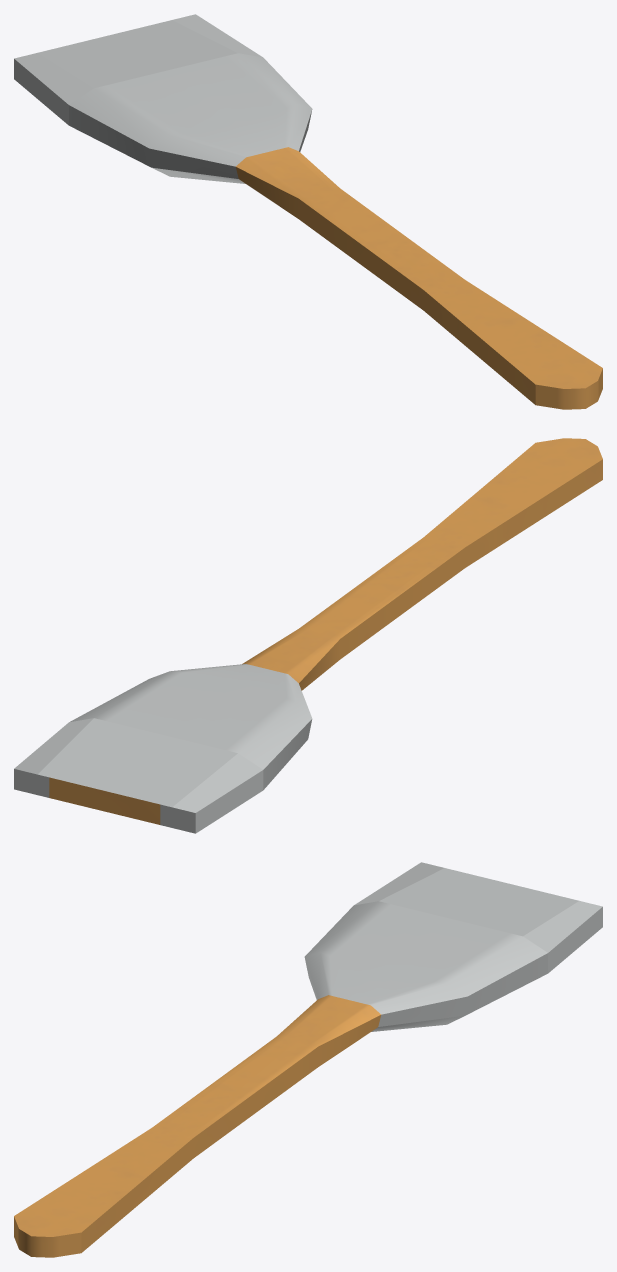
Rendered from Spatula.fbx.
3 renders of one model, top to bottom at view 1: azimuth 30°, elevation 25°; view 2: azimuth 150°, elevation 25°; view 3: azimuth 330°, elevation 25°, orthographic.
Parts seen in each view (by area): view 1: Spoon1; view 2: Spoon1; view 3: Spoon1.
Part boxes in pixels (bbox=[...]): Spoon1: bbox=[14, 14, 602, 409]; Spoon1: bbox=[14, 438, 602, 833]; Spoon1: bbox=[14, 862, 602, 1257].
Size of the model in its own units: 0.0944 by 0.0193 by 0.404.
